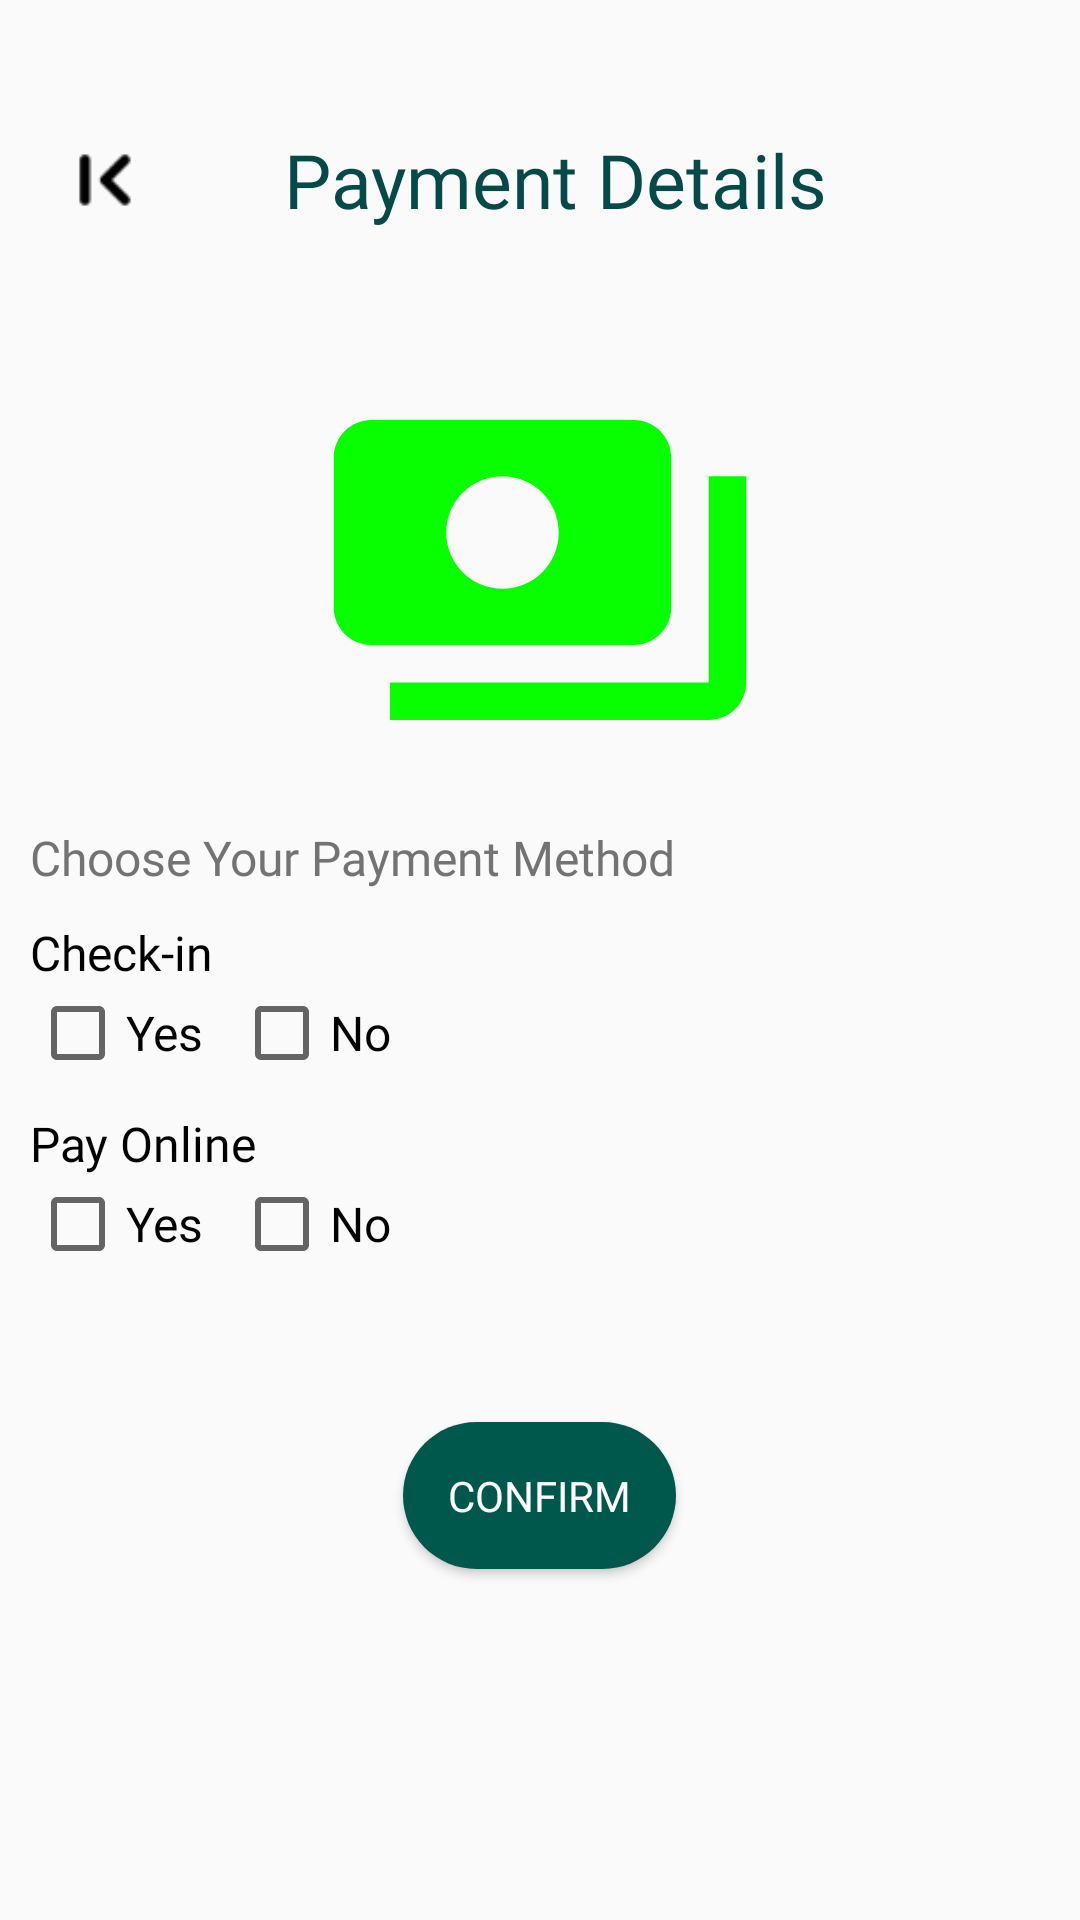

Screen size 1080×1920. Icon name, then its box in pixels as rect(x1, y1, x2, y2):
back: rect(79, 154, 131, 206)
